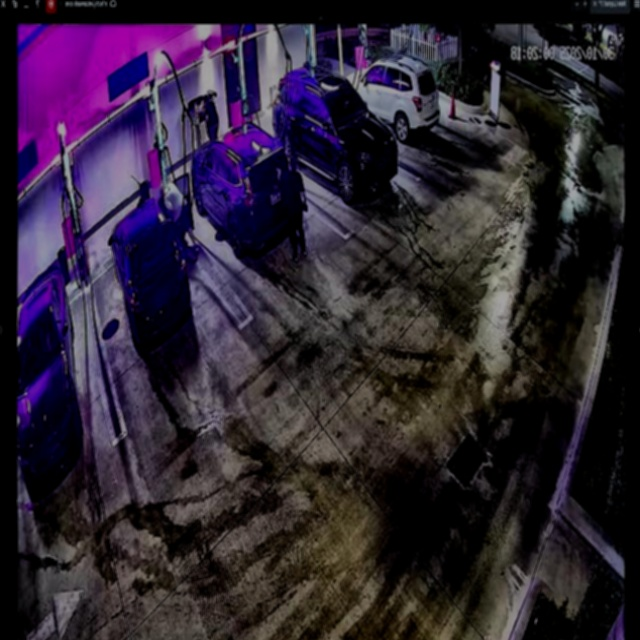Car: (272, 66, 398, 199), (112, 175, 193, 348), (192, 137, 297, 260)
